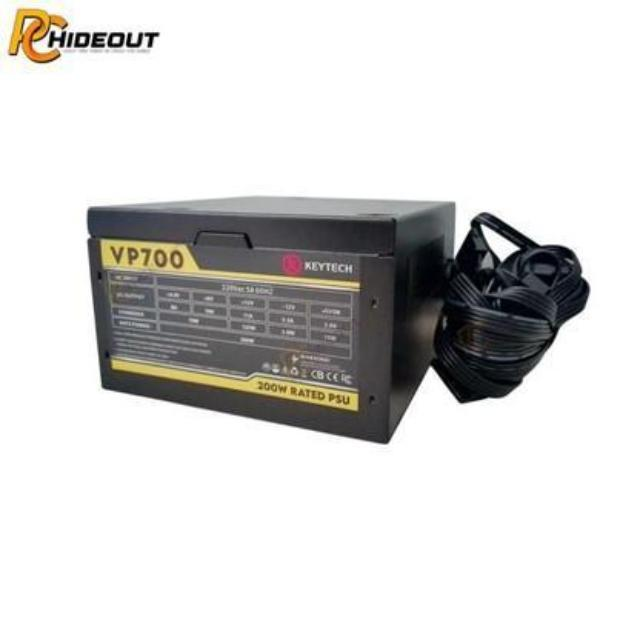PSU: (77, 164, 477, 452)
